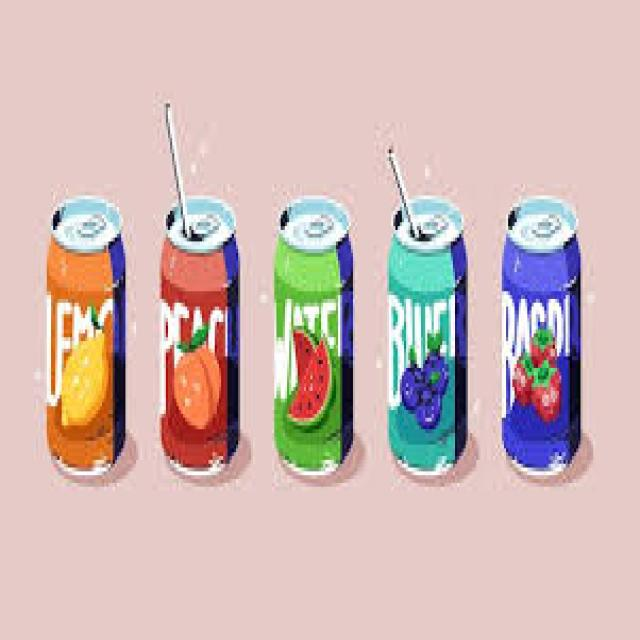Cans: (270, 192, 361, 486), (155, 192, 247, 475), (385, 188, 472, 487), (500, 191, 589, 483), (42, 192, 132, 479)
